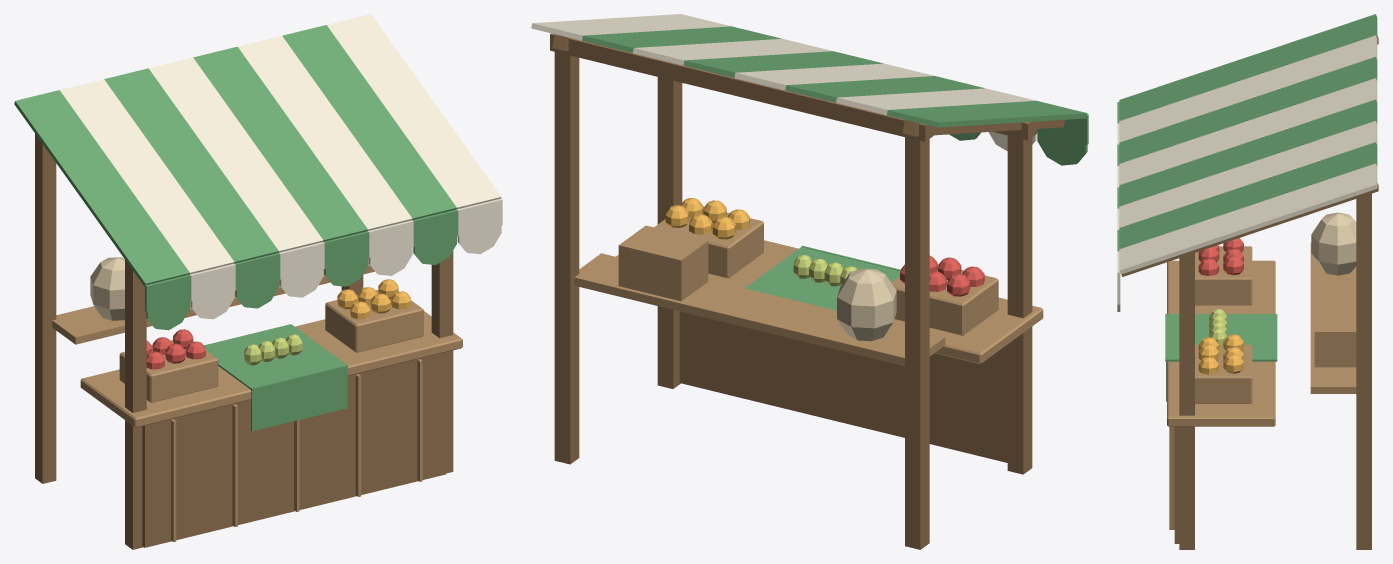
The model's file is market_stall_green.glb.
3 views of the same model, side by side, from view 1: azimuth 30°, elevation 25°; view 2: azimuth 150°, elevation 25°; view 3: azimuth 270°, elevation 25° (orthographic). The views are drawn at different scales.
Parts seen in each view (by area): view 1: market_stall_green; view 2: market_stall_green; view 3: market_stall_green.
Part boxes in pixels (x1,y1,x2,y2): market_stall_green: [14, 14, 502, 549]; market_stall_green: [531, 14, 1088, 549]; market_stall_green: [1117, 14, 1378, 549].
Bounding box in the file's own units: 2.6 × 2.65 × 1.68.
